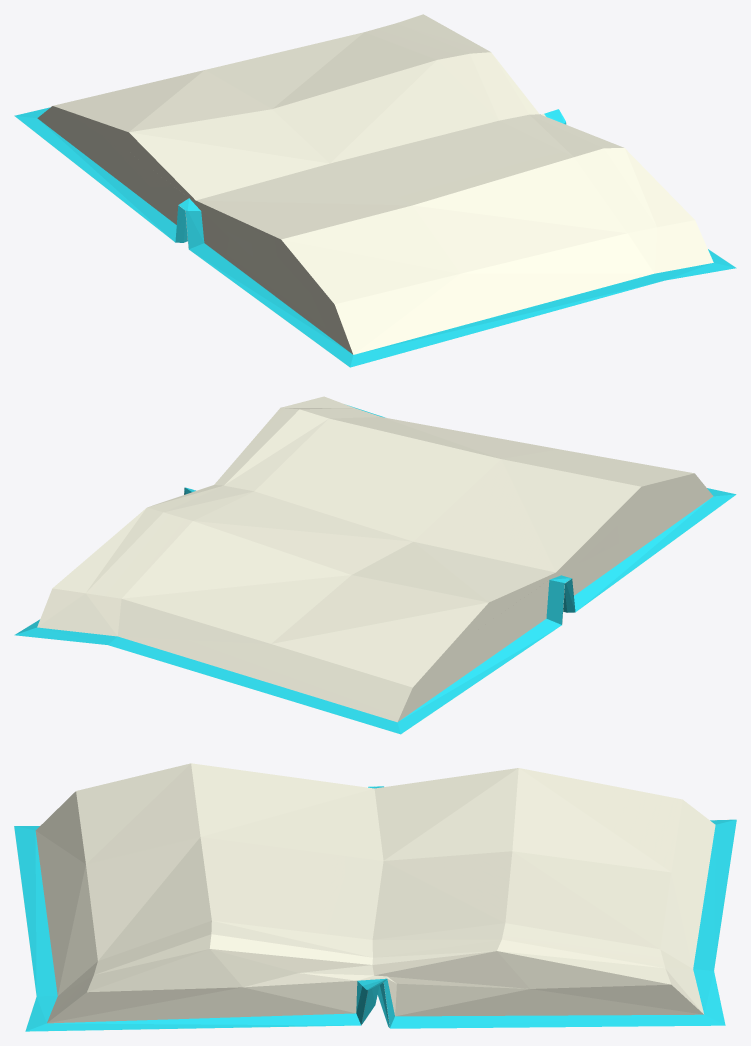
The model's file is Libro azzurro aperto.fbx.
The picture shows the model from 3 angles, top to bottom: view 1: azimuth 30°, elevation 25°; view 2: azimuth 150°, elevation 25°; view 3: azimuth 270°, elevation 25°; orthographic projection. The views are drawn at different scales.
Parts seen in each view (by area): view 1: Cube.002; view 2: Cube.002; view 3: Cube.002.
Part boxes in pixels (bbox=[...]): Cube.002: bbox=[14, 14, 736, 367]; Cube.002: bbox=[14, 396, 736, 734]; Cube.002: bbox=[14, 763, 736, 1031].
Size of the model in its own units: 206 by 36.34 by 306.
